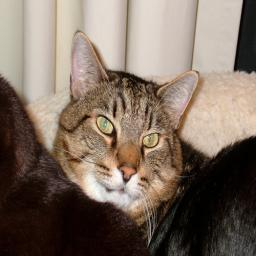catnose: (117, 161, 140, 185)
